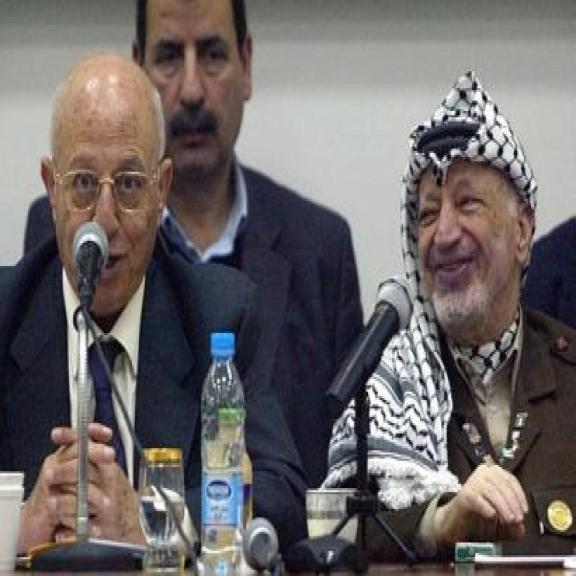face: (36, 96, 172, 305), (418, 158, 538, 334), (144, 0, 254, 183)
